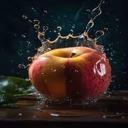apple: (28, 47, 111, 103)
